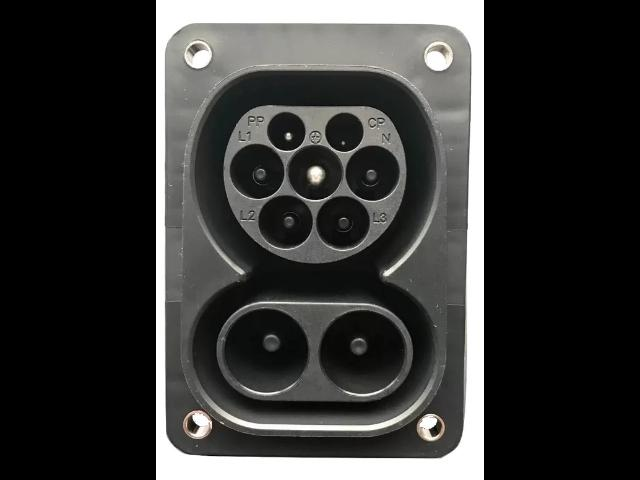inlet: (224, 106, 408, 264)
inlet-above-left: (267, 112, 306, 151)
inlet-above-right: (325, 112, 363, 153)
inlet-below-left: (258, 196, 312, 249)
inlet-below-right: (316, 196, 370, 250)
inlet-circle: (288, 145, 343, 201)
inlet-circle-left: (229, 144, 284, 199)
inlet-circle-right: (347, 146, 399, 201)
inlet-minus: (320, 310, 406, 396)
inlet-plus: (223, 307, 309, 395)
